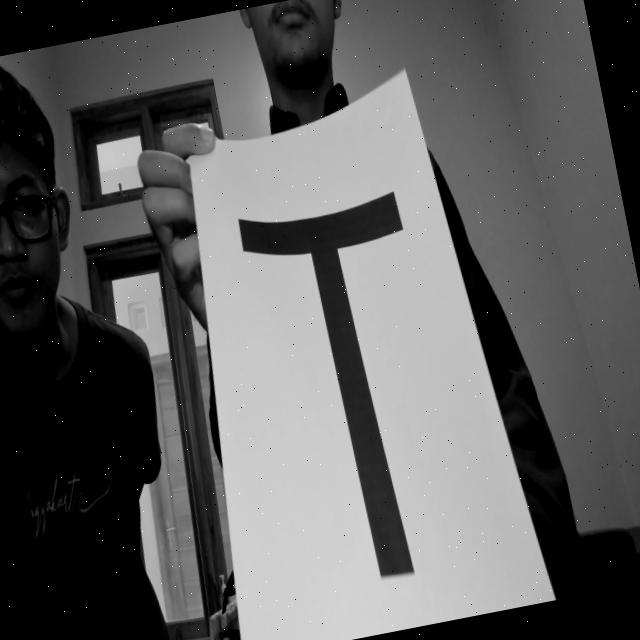t: (216, 160, 501, 614)
